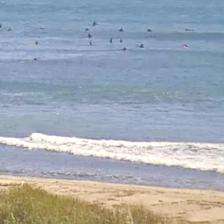surfer: (91, 21, 99, 27), (31, 56, 38, 62), (86, 33, 93, 39), (118, 38, 124, 44), (185, 28, 194, 32), (121, 47, 128, 52), (5, 27, 13, 31), (34, 41, 40, 46), (146, 28, 152, 33), (109, 38, 114, 43), (38, 26, 44, 30), (84, 28, 90, 32), (118, 28, 124, 32), (139, 44, 145, 48), (182, 44, 188, 48), (88, 42, 92, 47), (1, 23, 2, 29)
